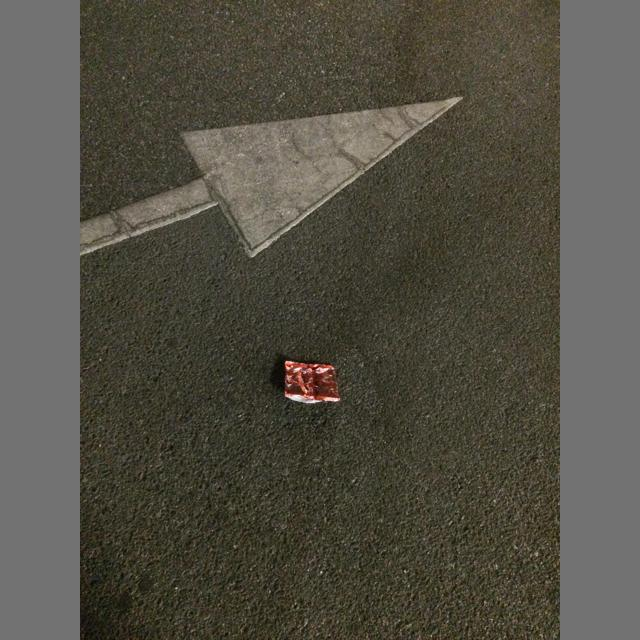litter: (284, 361, 340, 404)
